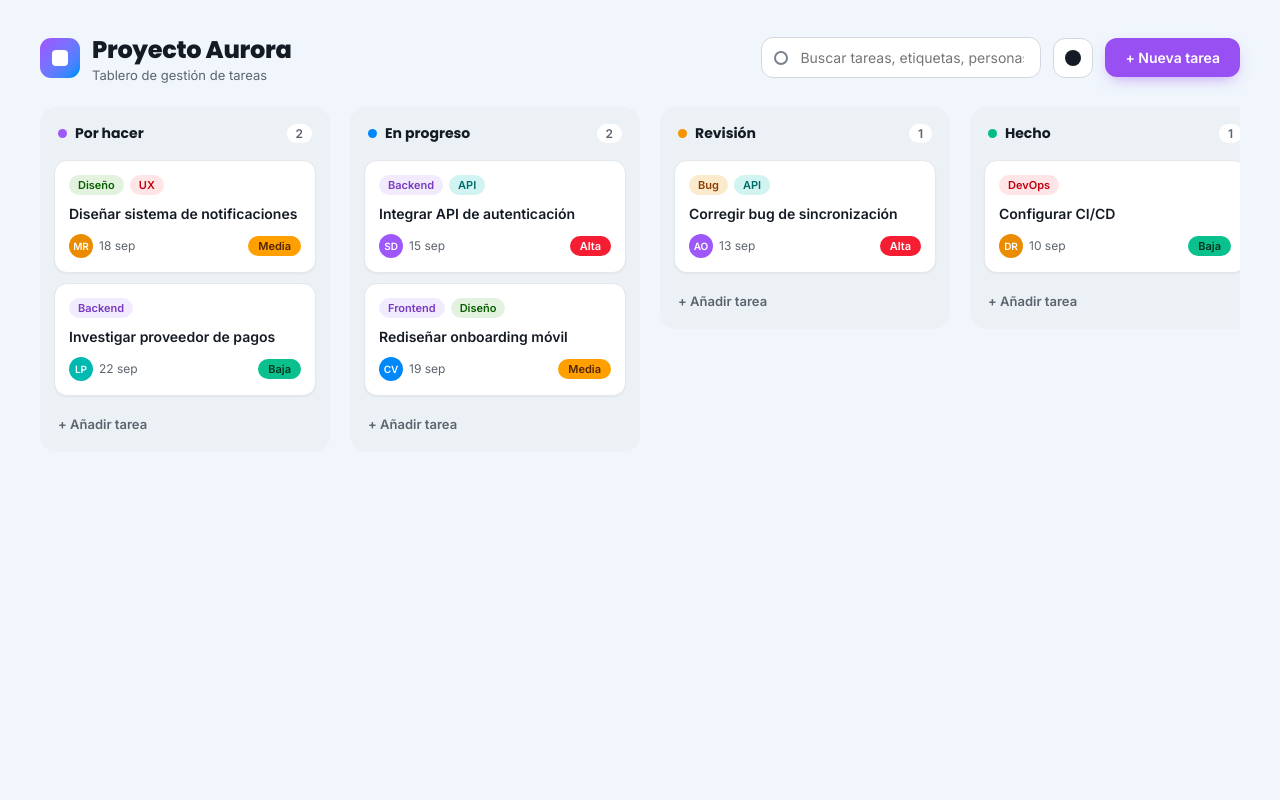
Test case: header add-task entry point › opens the create modal preselecting the first column ("todo")
Click the button "+ Nueva tarea" at (1173, 58), box [1105,38,1240,77]
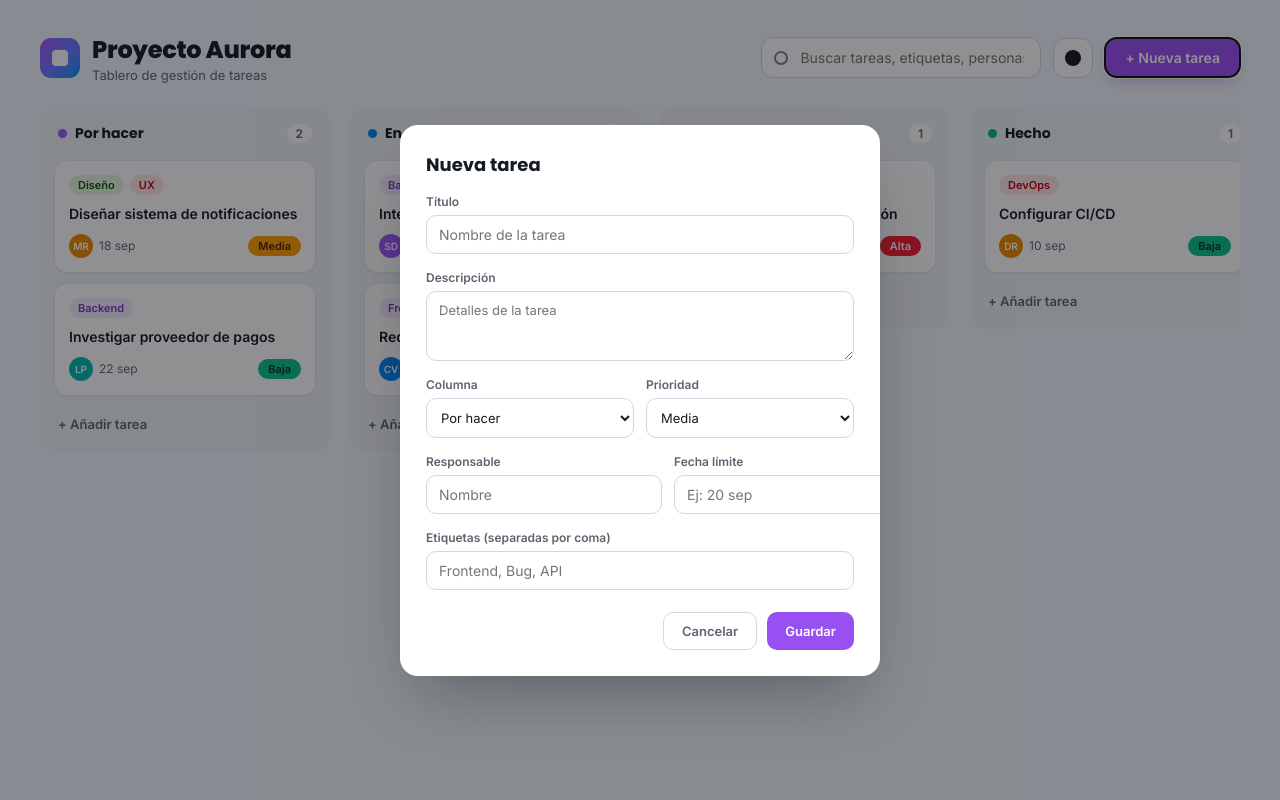
Now the text "Nueva tarea" is shown, box [426,152,541,176]
Now the field with placeholder "Nombre de la tarea" is empty, box [426,214,854,254]
Now the dropdown labelled "Columna" shows "Por hacer", box [426,398,634,438]
